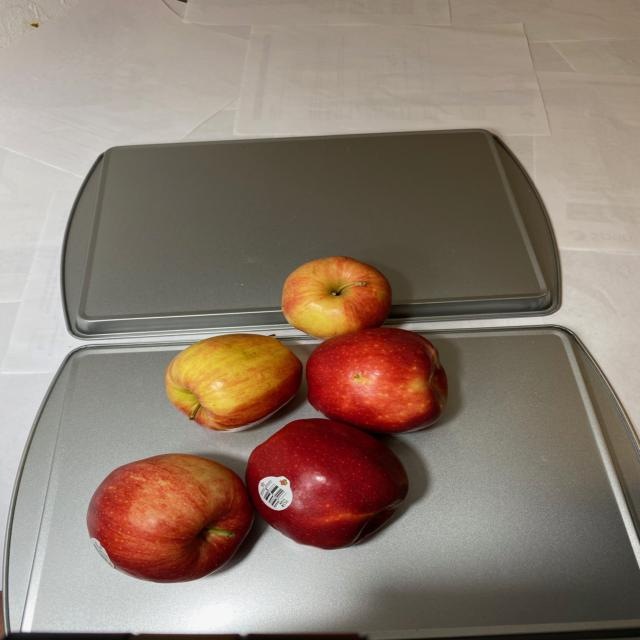apple: (87, 255, 451, 584)
